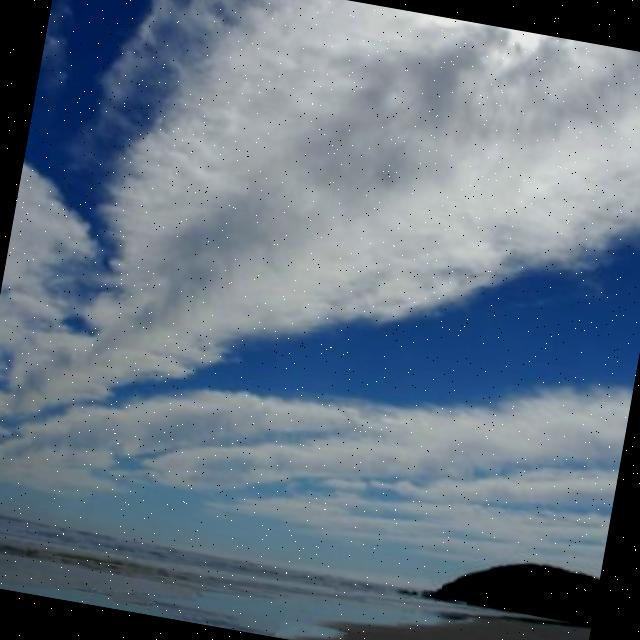Ci: (1, 1, 640, 541)
